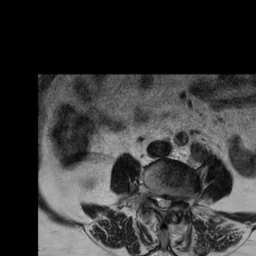CCS_severe_stenosis: (160, 191, 166, 216)
LFS_severe_stenosis: (174, 191, 180, 209)
LLS_severe_stenosis: (167, 193, 173, 212)
RFS_stenosis: (148, 187, 155, 203)
RLS_stenosis: (155, 189, 160, 211)
